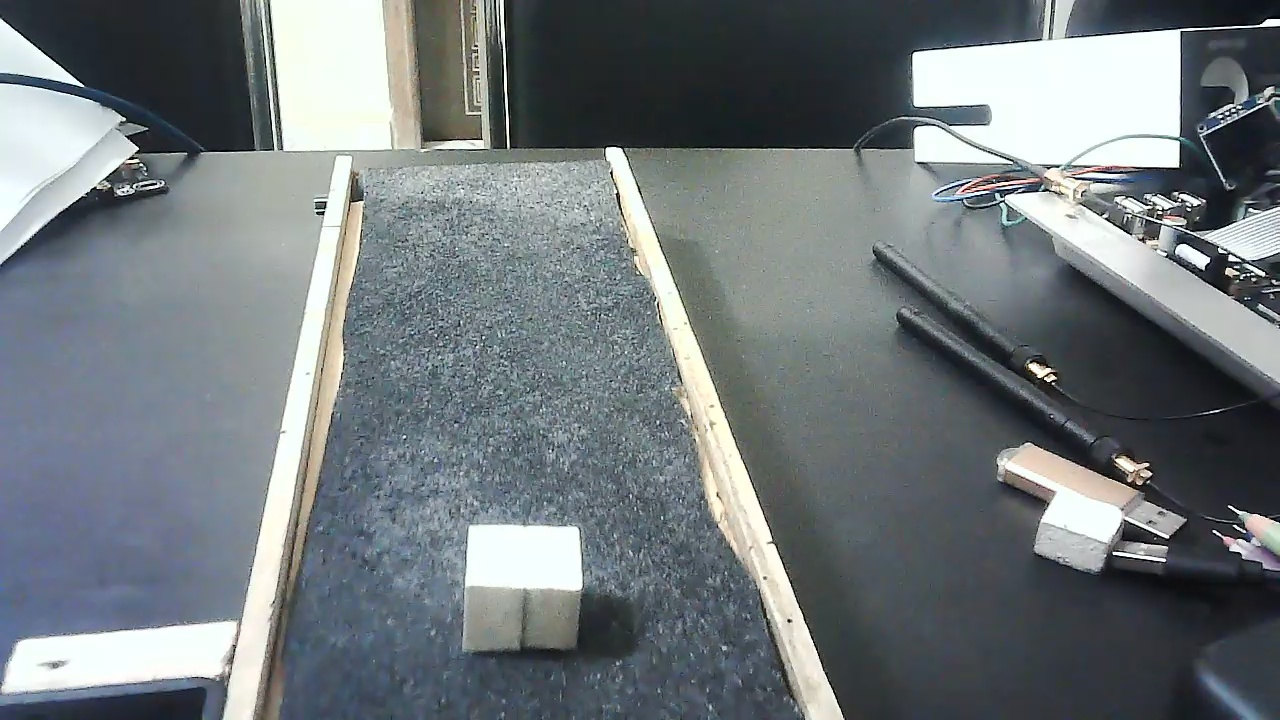Small: (459, 524, 589, 654)
